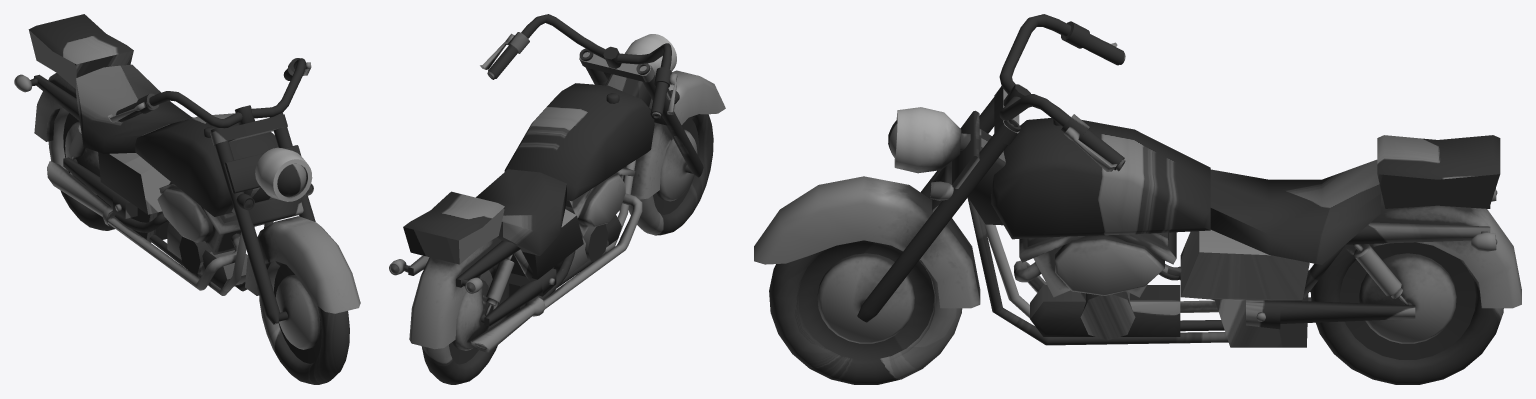
File: Bike.fbx
The picture shows the model from 3 angles, left to right: view 1: azimuth 30°, elevation 25°; view 2: azimuth 150°, elevation 25°; view 3: azimuth 270°, elevation 25°; orthographic projection. The views are drawn at different scales.
Visible parts, largest first — view 1: Motor, Weel_F, Weel_B; view 2: Motor, Weel_F, Weel_B; view 3: Motor, Weel_F, Weel_B.
Part boxes in pixels (x1,y1,x2,y2): Motor: (14, 14, 360, 324); Weel_F: (259, 261, 349, 384); Weel_B: (48, 108, 114, 230); Motor: (389, 14, 725, 352); Weel_F: (628, 114, 713, 235); Weel_B: (421, 263, 509, 384); Motor: (754, 14, 1521, 347); Weel_F: (769, 240, 962, 384); Weel_B: (1310, 242, 1503, 384).
Bounding box in the file's own units: 95.93 × 118 × 250.
8 materials, 8 textured.
